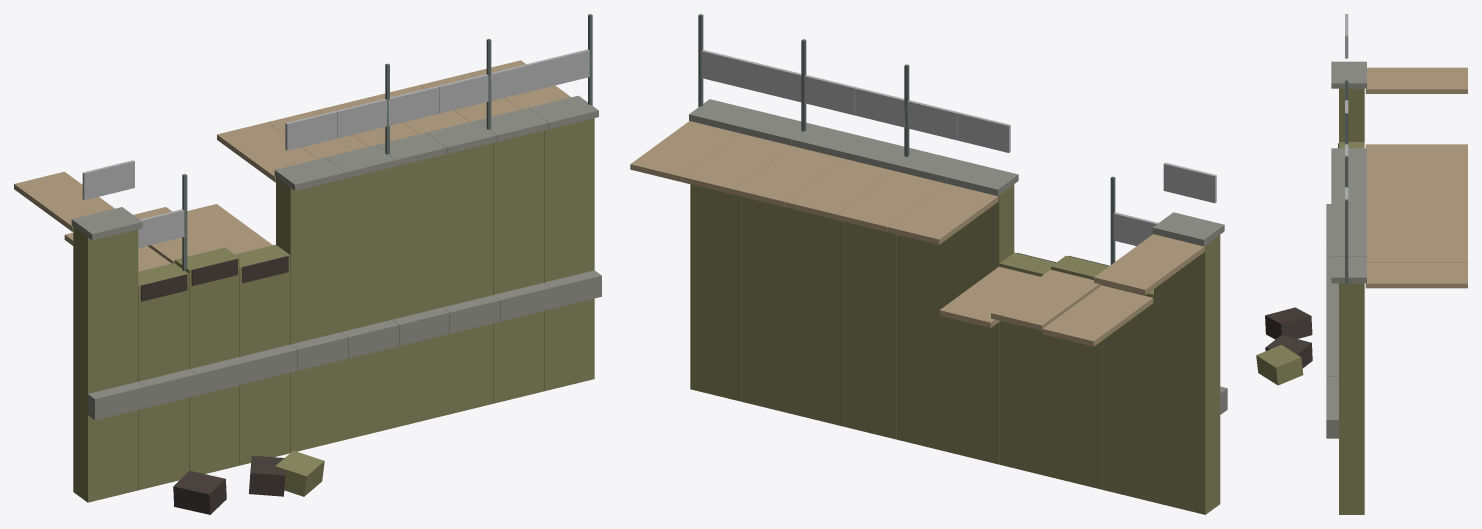
The model's file is SM_MuroRampa_v0_Alto_e2_MuyDanado_LOD1.fbx.
3 views of the same model, side by side, from view 1: azimuth 30°, elevation 25°; view 2: azimuth 150°, elevation 25°; view 3: azimuth 270°, elevation 25° (orthographic). The views are drawn at different scales.
Parts seen in each view (by area): view 1: SM_muro_rampa_v2_LOD1; view 2: SM_muro_rampa_v2_LOD1; view 3: SM_muro_rampa_v2_LOD1.
Part boxes in pixels (x1,y1,x2,y2): SM_muro_rampa_v2_LOD1: (14, 14, 601, 514); SM_muro_rampa_v2_LOD1: (630, 14, 1227, 514); SM_muro_rampa_v2_LOD1: (1256, 14, 1467, 514).
Bounding box in the file's own units: 10.03 × 6.83 × 4.14.
